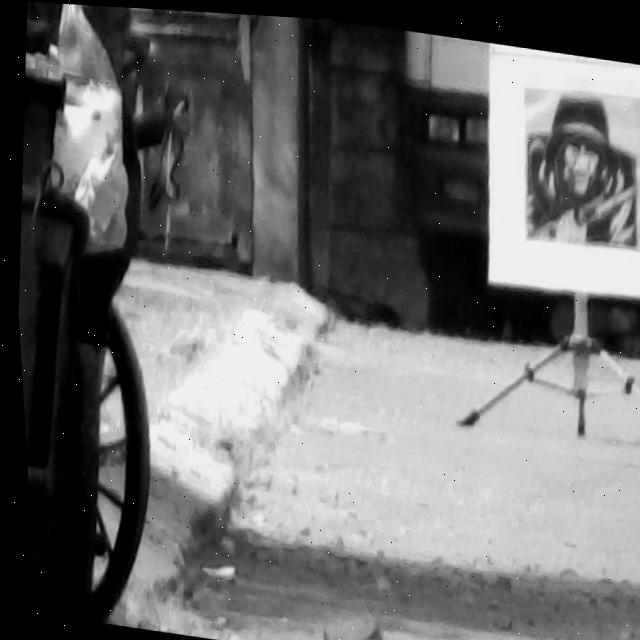bia: (524, 81, 640, 242)
